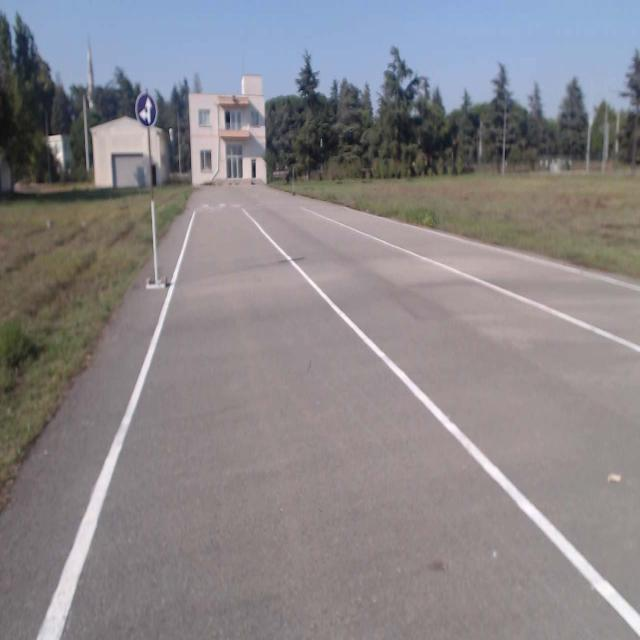ilerisol: (136, 95, 157, 126)
